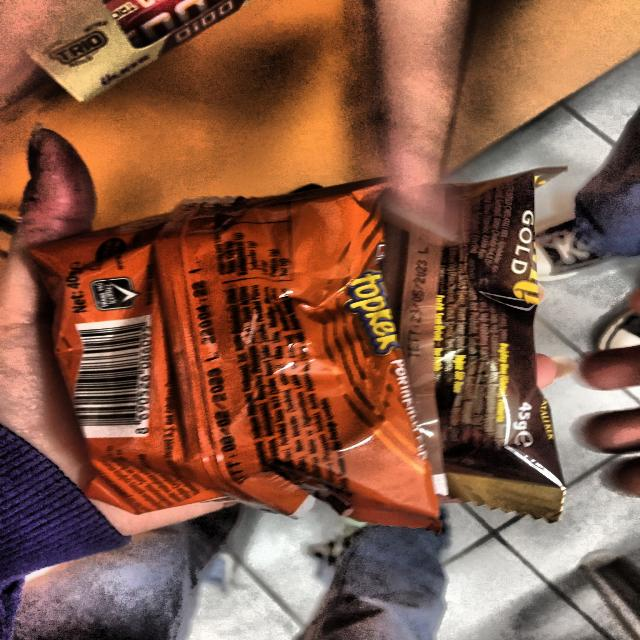Plastic: (51, 162, 418, 540), (384, 137, 595, 558)
